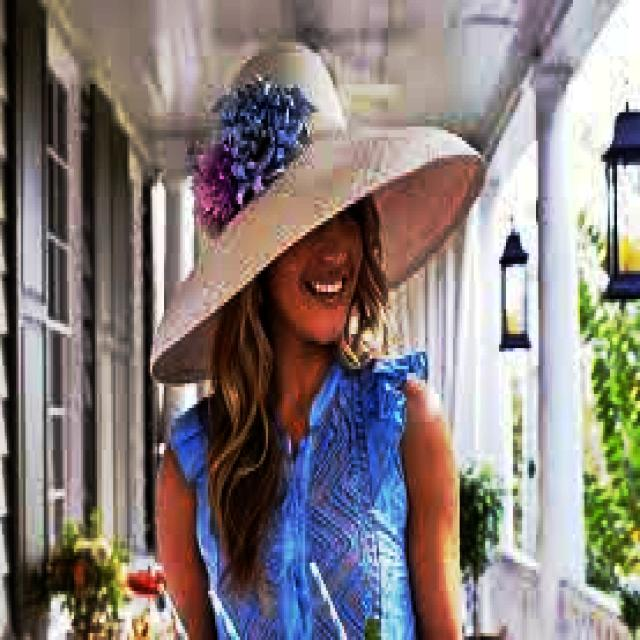TOPI: (146, 24, 485, 387)
